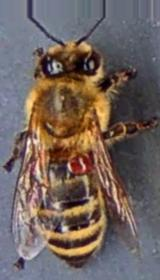varroa_mite: (55, 144, 102, 183)
